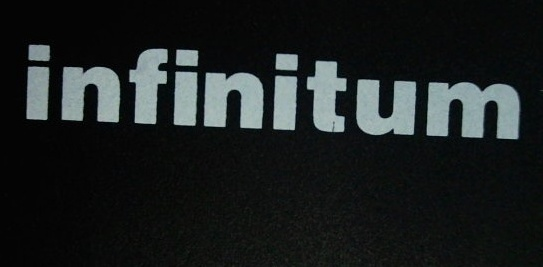BK_infinitum: (18, 41, 520, 141)
